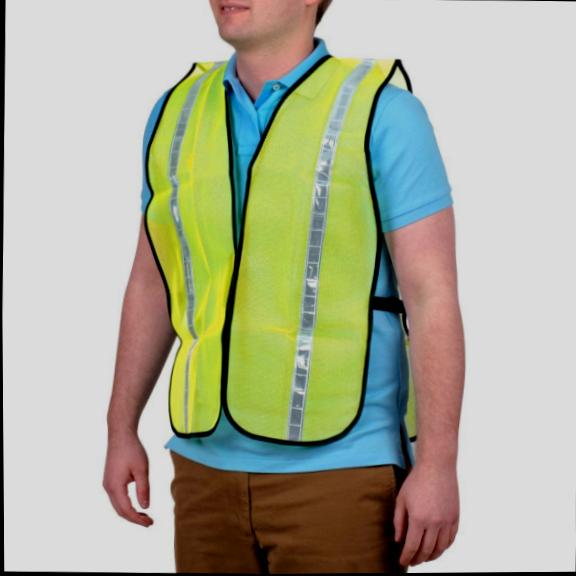safety_vest: (138, 52, 427, 450)
